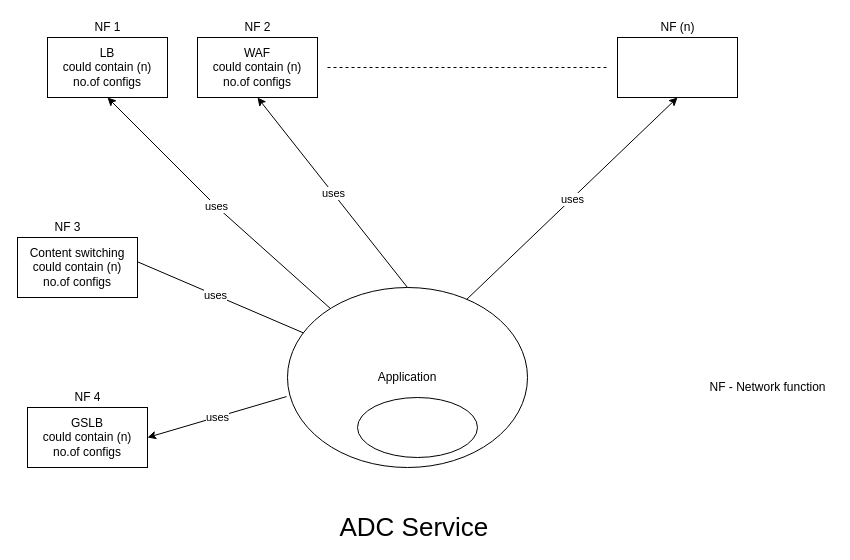
This 850x560 diagram has some shape labels left out. The centre of each missing label's shape, as x and y in pixels:
Basic Conffig: pixel 417 427
NF (n) could contain (n) no.of configs: pixel 677 67
